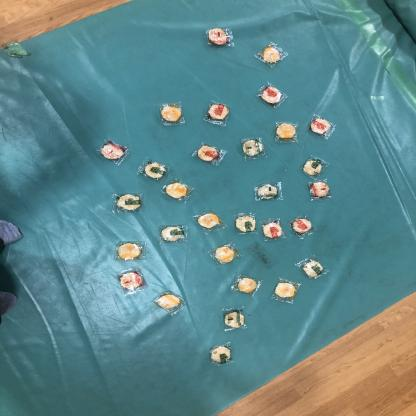green_setoshio: (294, 254, 332, 280), (112, 190, 148, 212), (254, 180, 289, 201), (240, 135, 269, 160), (300, 155, 330, 178), (221, 307, 251, 330), (206, 344, 236, 367), (232, 211, 260, 235), (137, 158, 167, 179), (156, 223, 186, 244)
red_setoshio: (93, 136, 133, 164), (255, 80, 289, 110), (304, 113, 338, 140), (119, 265, 150, 294), (192, 142, 227, 167), (200, 26, 235, 51), (203, 102, 234, 127), (289, 214, 317, 239), (262, 218, 286, 242), (308, 179, 332, 200)
yellow_setoshio: (154, 98, 191, 128), (272, 276, 304, 304), (256, 41, 290, 67), (153, 289, 187, 315), (209, 243, 242, 268), (164, 178, 195, 204), (232, 274, 264, 296), (273, 120, 301, 144), (197, 210, 226, 233), (115, 241, 148, 261)
